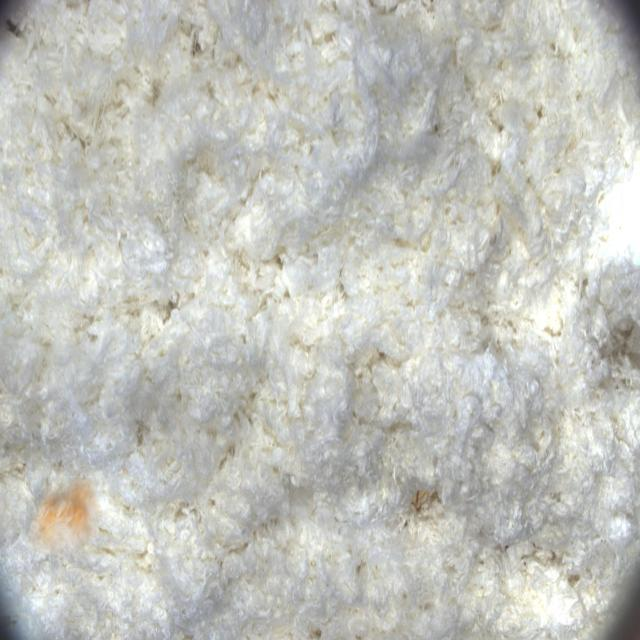dust: (26, 478, 100, 555)
